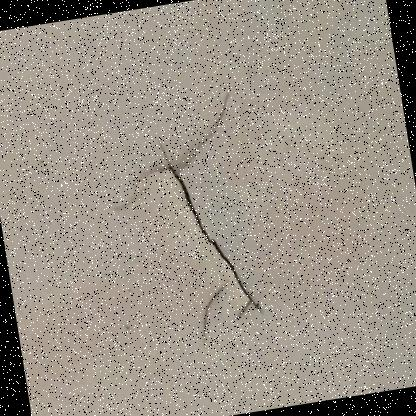Crack: (58, 69, 308, 396)
